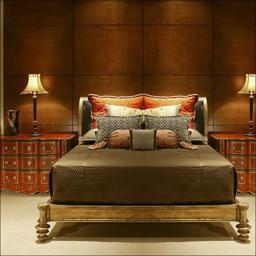Cama: (37, 95, 248, 243)
